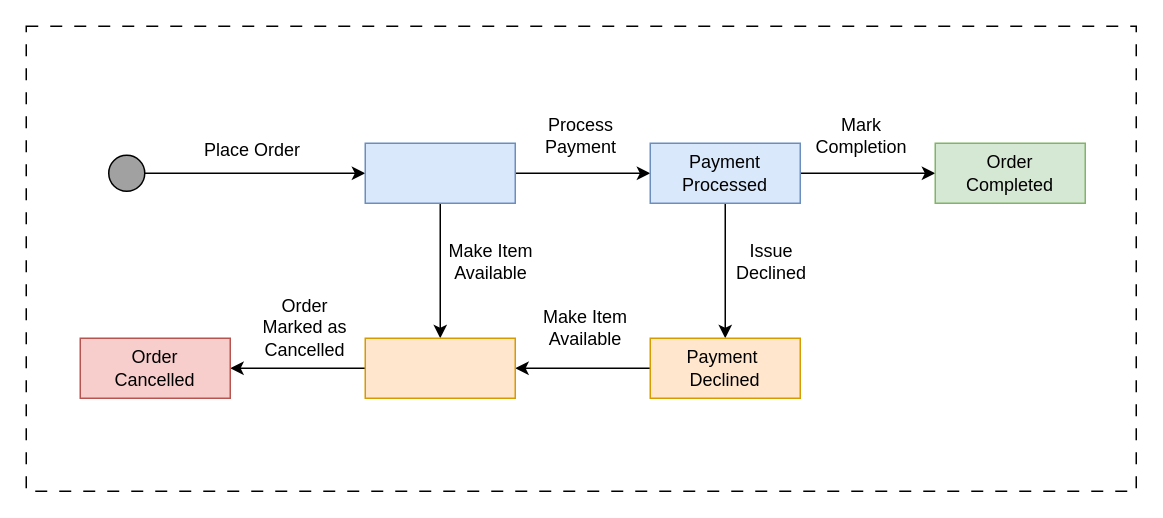
Some shapes in this 1163 by 518 pixel diagram are drawn without their labels. Here are the shapes that lost their labels. From the top down, the box of each, then its label:
(364, 142, 515, 203): Inventory Deducted
(364, 337, 515, 398): Inventory Restored
